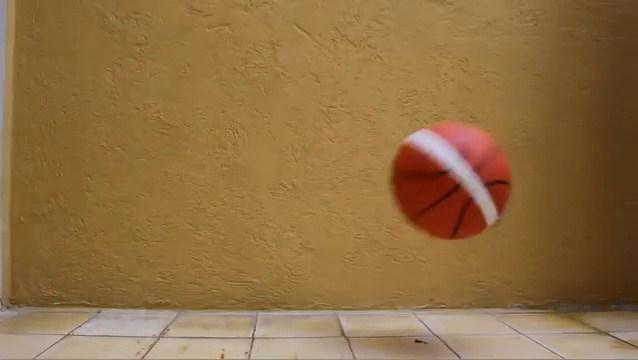ball: (392, 119, 511, 239)
